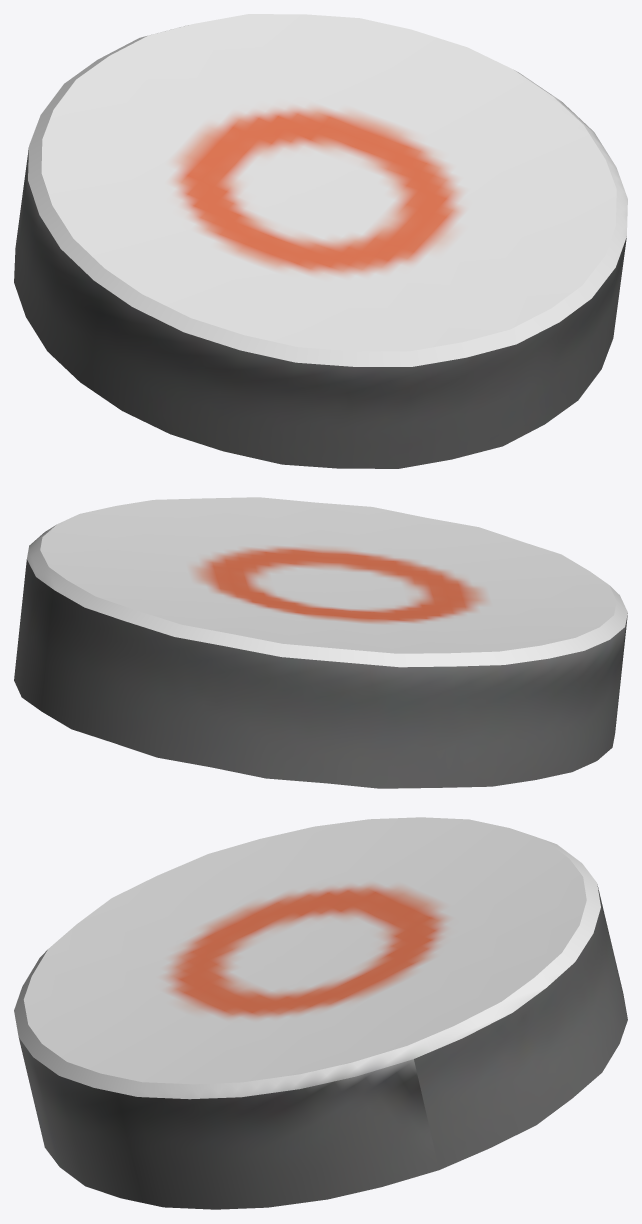
3 views of the same model, one above another, from view 1: azimuth 30°, elevation 25°; view 2: azimuth 150°, elevation 25°; view 3: azimuth 270°, elevation 25° (orthographic).
Size of the model in its own units: 0.00866 by 0.00366 by 0.00884.
Materials: 1 (1 with a texture image).
